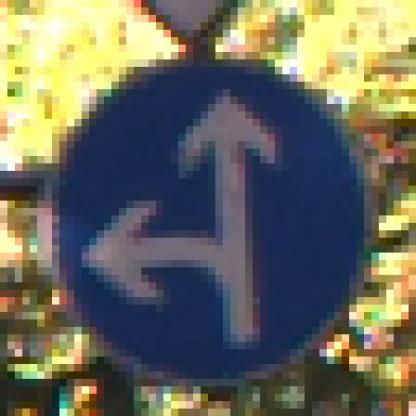Straight or Left: (38, 45, 373, 380)
